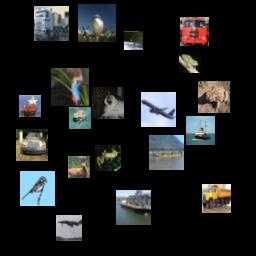airplane: (78, 4, 116, 42), (141, 92, 176, 127), (56, 215, 82, 241)
automobile: (16, 129, 48, 161)
bird: (51, 68, 89, 106), (20, 171, 55, 206)
cat: (92, 87, 124, 119)
deer: (68, 156, 90, 178), (124, 31, 143, 50)
frog: (198, 81, 230, 113), (95, 145, 121, 171), (69, 107, 91, 129), (179, 51, 201, 73)
ship: (149, 135, 184, 170), (116, 190, 151, 225), (186, 116, 215, 145), (19, 95, 41, 117)
truck: (34, 6, 69, 41), (202, 184, 231, 213), (180, 17, 209, 46)
